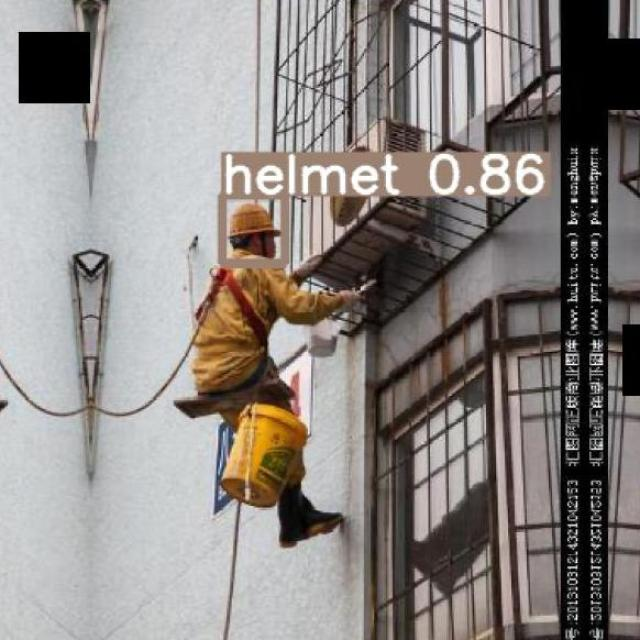yellow helmet: (219, 195, 286, 252)
